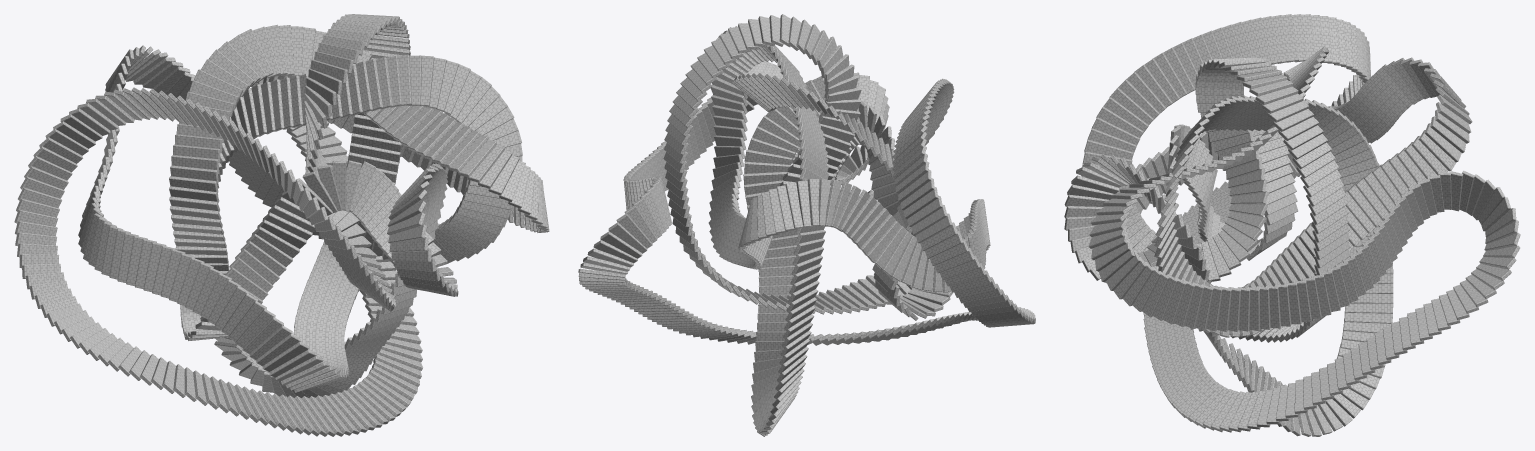
File: stairs_inst.glb
3 views of the same model, side by side, from view 1: azimuth 30°, elevation 25°; view 2: azimuth 150°, elevation 25°; view 3: azimuth 270°, elevation 25° (orthographic). The views are drawn at different scales.
Parts seen in each view (by area): view 1: transform77 (×57); view 2: transform77 (×14); view 3: transform77 (×50).
Boxes of the visible parts, x1,y1,x2,y2 form: transform77 (×57): (135,24,491,360); transform77 (×14): (616,115,916,281); transform77 (×50): (1084,14,1466,332).
Bounding box in the file's own units: 57.36 × 50.88 × 54.53.
Materials: 1 (1 with a texture image).
